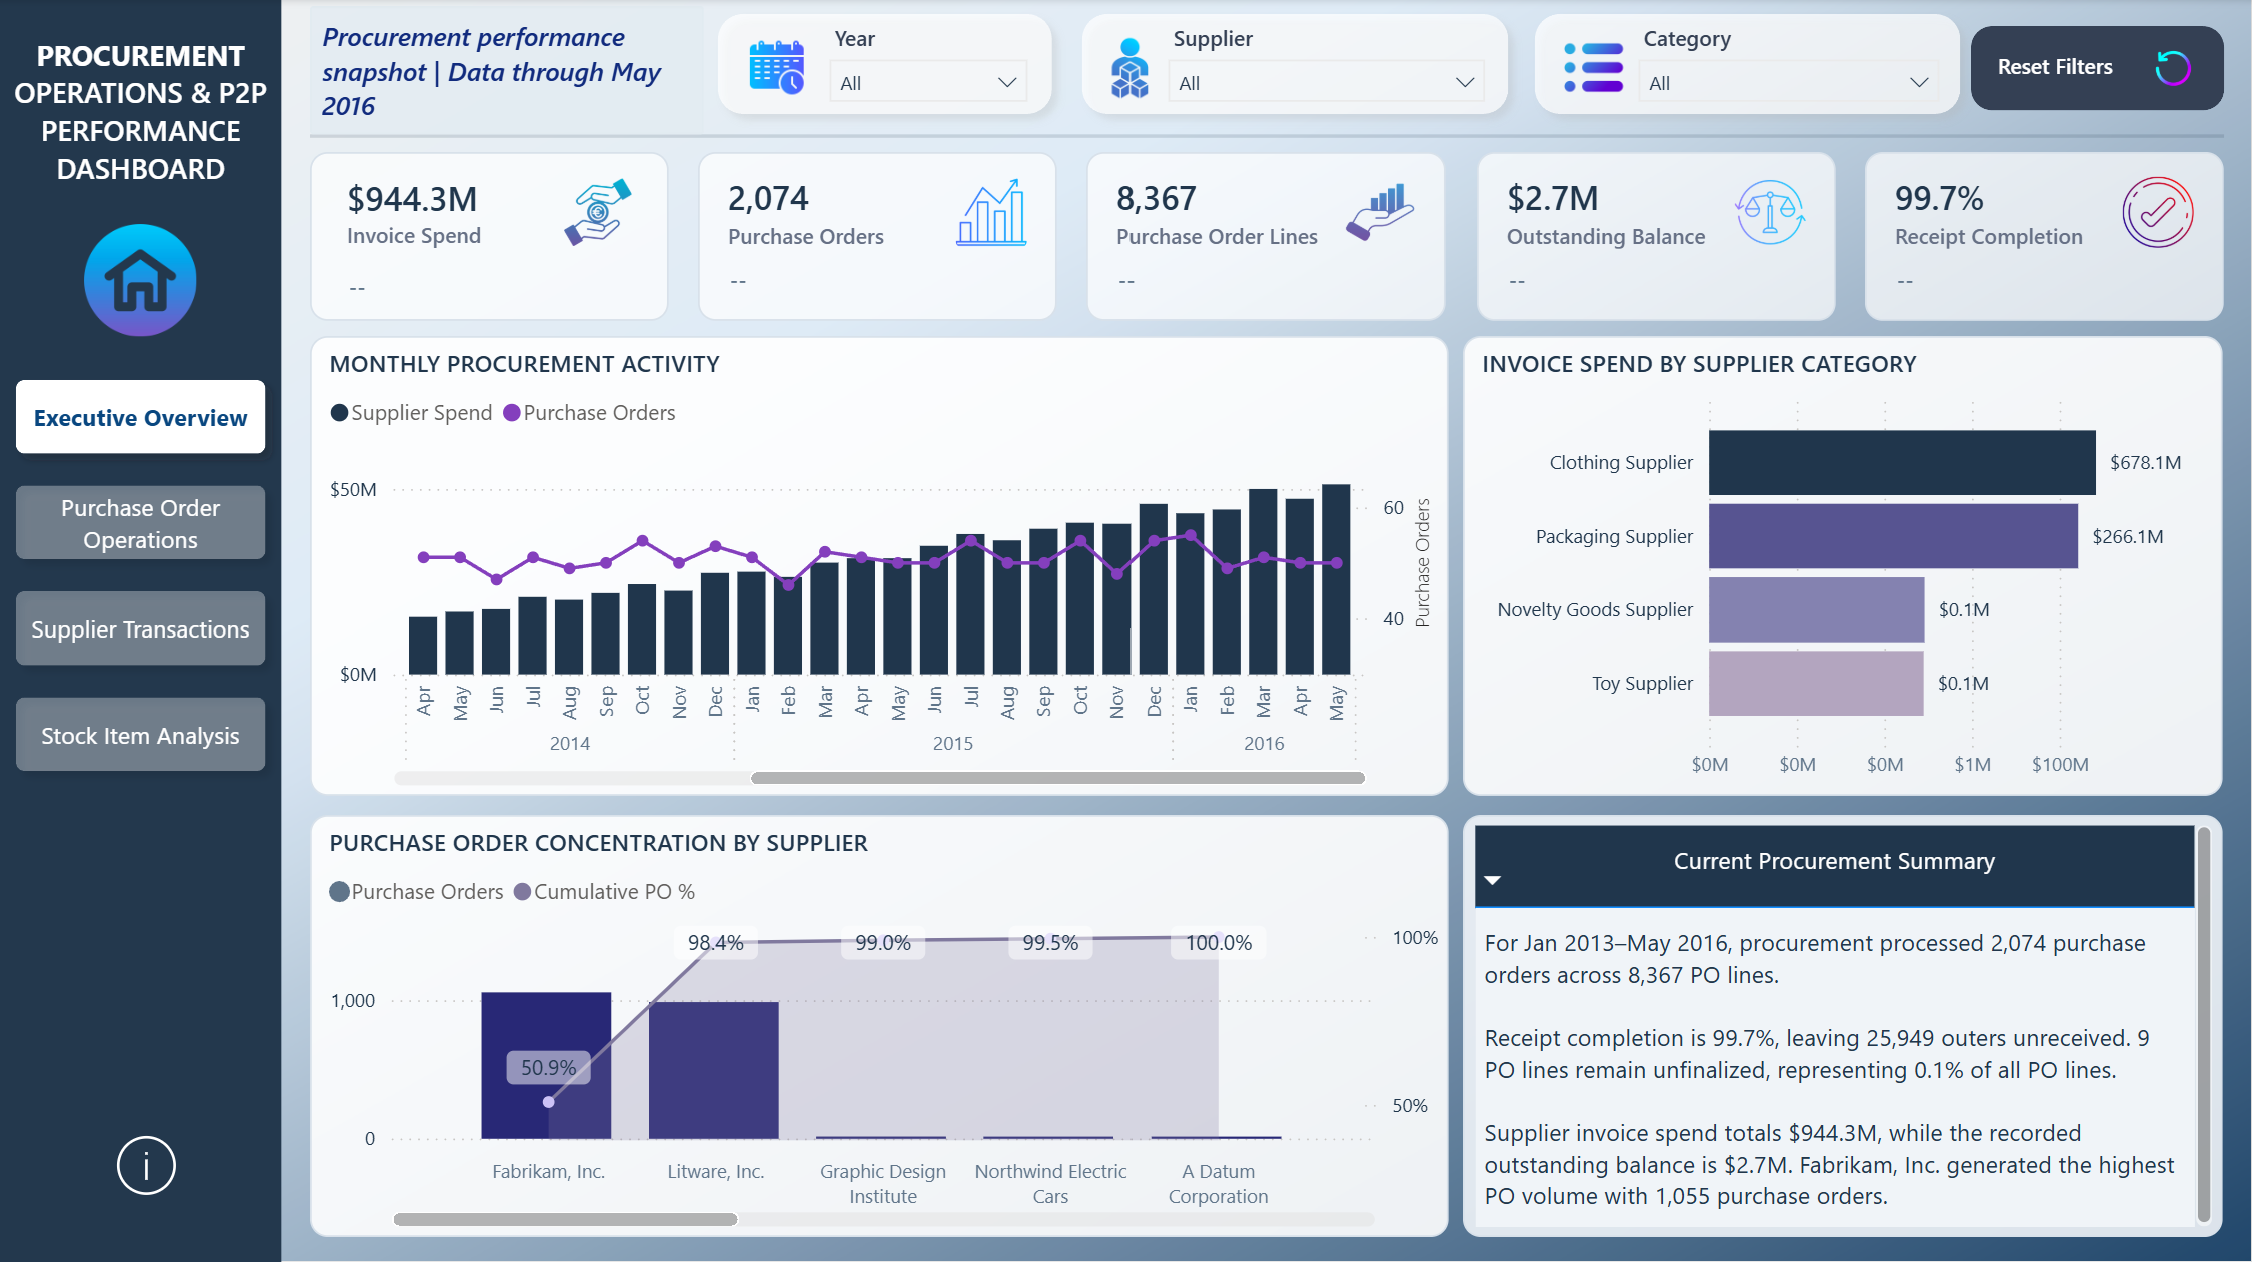

What the dashboard file says about the page in this screenshot:
{"tool":"powerbi","page":{"name":"Executive Overview","canvas":[1280,720],"ordinal":0},"visuals":[{"type":"shape","box":[0,0,160,720],"z":0},{"type":"shape","box":[399.7,0,208,75],"z":0,"group":"g3"},{"type":"shape","box":[605.7,0,260,75],"z":0,"group":"g1"},{"type":"shape","box":[863.7,0,260,75],"z":0,"group":"g2"},{"type":"shape","box":[1120,16,144,48],"z":0,"group":"g5"},{"type":"slicer","title":"Year","fields":{"Values":["DimDate.Calendar Year"]},"box":[461.7,25,132.4,40],"z":1000,"group":"g3"},{"type":"slicer","title":"Year","fields":{"Values":["DimSupplier.Supplier"]},"box":[653.7,25,200,40],"z":1000,"group":"g1"},{"type":"slicer","title":"Year","fields":{"Values":["DimSupplier.Category"]},"box":[921.7,25,191,48],"z":1000,"group":"g2"},{"type":"cardVisual","fields":{"Data":["__Measures.Supplier Spend Excl. Tax"]},"box":[176,88,204,96],"z":1000},{"type":"image","box":[888.7,4,35,70],"z":2000,"group":"g2"},{"type":"image","box":[424.7,5,35,70],"z":2000,"group":"g3"},{"type":"image","box":[623.7,5,35,70],"z":2000,"group":"g1"},{"type":"cardVisual","fields":{"Data":["__Measures.PO Line Count"]},"box":[618,88,204,96],"z":2000},{"type":"textbox","box":[470.7,8,56.7,32],"z":3000,"group":"g3"},{"type":"textbox","box":[661.7,8,72,32],"z":3000,"group":"g1"},{"type":"textbox","box":[930.2,8,85.5,32],"z":3000,"group":"g2"},{"type":"cardVisual","fields":{"Data":["__Measures.Outstanding Balance"]},"box":[839,88,204,96],"z":3000},{"type":"cardVisual","fields":{"Data":["__Measures.Receipt Completion %"]},"box":[1060,88,204,96],"z":4000},{"type":"clusteredBarChart","title":"INVOICE SPEND BY SUPPLIER CATEGORY","fields":{"Category":["DimSupplier.Category"],"Y":["__Measures.Supplier Spend Excl. Tax"]},"box":[832,192,432,261],"z":5000},{"type":"lineClusteredColumnComboChart","title":"MONTHLY PROCUREMENT ACTIVITY","fields":{"Category":["DimDate.Calendar Year","DimDate.Short Month"],"Y":["__Measures.Supplier Spend Excl. Tax"],"Y2":["__Measures.PO Count"]},"box":[176,192,647,261],"z":6000},{"type":"pageNavigator","box":[0,208,160,240],"z":7000},{"type":"image","box":[48,128,64,64],"z":8000},{"type":"textbox","box":[0,16,160,112],"z":9000},{"type":"group","id":"g1","title":"Group 1","box":[605.7,0,260,75],"z":10000},{"type":"group","id":"g2","title":"Group 1","box":[863.7,0,260,75],"z":11000},{"type":"group","id":"g3","title":"Group 2","box":[399.7,0,208,75],"z":12000},{"type":"cardVisual","fields":{"Data":["__Measures.PO Count"]},"box":[397,88,204,96],"z":13000},{"type":"tableEx","title":"rrf","fields":{"Values":["__Measures.Current Procurement Narrative"]},"box":[832,464,432,240],"z":14000},{"type":"group","id":"g4","title":"Group 4","box":[1120,16,144,48],"z":15000},{"type":"shape","box":[176,71,1088,16],"z":16000},{"type":"actionButton","box":[60,640,46,46],"z":17000},{"type":"group","id":"g5","title":"Group 3","box":[1120,16,144,48],"z":18000,"group":"g4"},{"type":"lineClusteredColumnComboChart","title":"PURCHASE ORDER CONCENTRATION BY SUPPLIER","fields":{"Category":["DimSupplier.Supplier"],"Y":["__Measures.PO Count"],"Y2":["__Measures.Cumulative PO %"]},"box":[176,464,647,240],"z":18000},{"type":"textbox","box":[176,5,224,73],"z":19000},{"type":"image","box":[1225,25,21,30],"z":20000,"group":"g4"},{"type":"textbox","box":[1120,24,96,32],"z":21000,"group":"g5"}]}

Visuals, with their boxes on the page's 1280x720 design canvas (x1, y1, x2, y2). These are canvas units, not pixel positions in the 2252x1262 screenshot, which may show the page scaled, cropped or inside an application window:
shape: pyautogui.locateOnScreen(0, 0, 160, 720)
shape: pyautogui.locateOnScreen(400, 0, 608, 75)
shape: pyautogui.locateOnScreen(606, 0, 866, 75)
shape: pyautogui.locateOnScreen(864, 0, 1124, 75)
shape: pyautogui.locateOnScreen(1120, 16, 1264, 64)
"Year" slicer: pyautogui.locateOnScreen(462, 25, 594, 65)
"Year" slicer: pyautogui.locateOnScreen(654, 25, 854, 65)
"Year" slicer: pyautogui.locateOnScreen(922, 25, 1113, 73)
cardVisual - __Measures.Supplier Spend Excl. Tax: pyautogui.locateOnScreen(176, 88, 380, 184)
image: pyautogui.locateOnScreen(889, 4, 924, 74)
image: pyautogui.locateOnScreen(425, 5, 460, 75)
image: pyautogui.locateOnScreen(624, 5, 659, 75)
cardVisual - __Measures.PO Line Count: pyautogui.locateOnScreen(618, 88, 822, 184)
textbox: pyautogui.locateOnScreen(471, 8, 527, 40)
textbox: pyautogui.locateOnScreen(662, 8, 734, 40)
textbox: pyautogui.locateOnScreen(930, 8, 1016, 40)
cardVisual - __Measures.Outstanding Balance: pyautogui.locateOnScreen(839, 88, 1043, 184)
cardVisual - __Measures.Receipt Completion %: pyautogui.locateOnScreen(1060, 88, 1264, 184)
"INVOICE SPEND BY SUPPLIER CATEGORY" clusteredBarChart: pyautogui.locateOnScreen(832, 192, 1264, 453)
"MONTHLY PROCUREMENT ACTIVITY" lineClusteredColumnComboChart: pyautogui.locateOnScreen(176, 192, 823, 453)
pageNavigator: pyautogui.locateOnScreen(0, 208, 160, 448)
image: pyautogui.locateOnScreen(48, 128, 112, 192)
textbox: pyautogui.locateOnScreen(0, 16, 160, 128)
"Group 1" group: pyautogui.locateOnScreen(606, 0, 866, 75)
"Group 1" group: pyautogui.locateOnScreen(864, 0, 1124, 75)
"Group 2" group: pyautogui.locateOnScreen(400, 0, 608, 75)
cardVisual - __Measures.PO Count: pyautogui.locateOnScreen(397, 88, 601, 184)
"rrf" tableEx: pyautogui.locateOnScreen(832, 464, 1264, 704)
"Group 4" group: pyautogui.locateOnScreen(1120, 16, 1264, 64)
shape: pyautogui.locateOnScreen(176, 71, 1264, 87)
actionButton: pyautogui.locateOnScreen(60, 640, 106, 686)
"Group 3" group: pyautogui.locateOnScreen(1120, 16, 1264, 64)
"PURCHASE ORDER CONCENTRATION BY SUPPLIER" lineClusteredColumnComboChart: pyautogui.locateOnScreen(176, 464, 823, 704)
textbox: pyautogui.locateOnScreen(176, 5, 400, 78)
image: pyautogui.locateOnScreen(1225, 25, 1246, 55)
textbox: pyautogui.locateOnScreen(1120, 24, 1216, 56)
